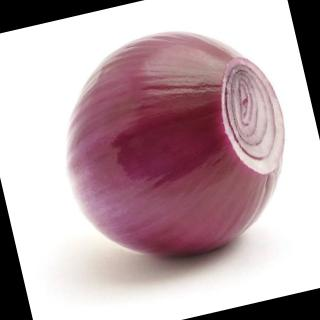Bawang Merah: (36, 6, 316, 285)
